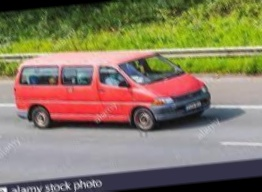van: (3, 36, 215, 145)
